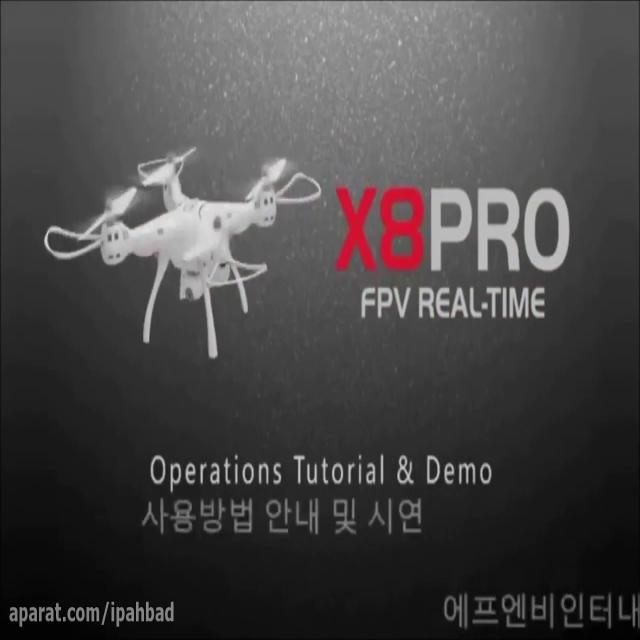drone: (43, 147, 321, 358)
